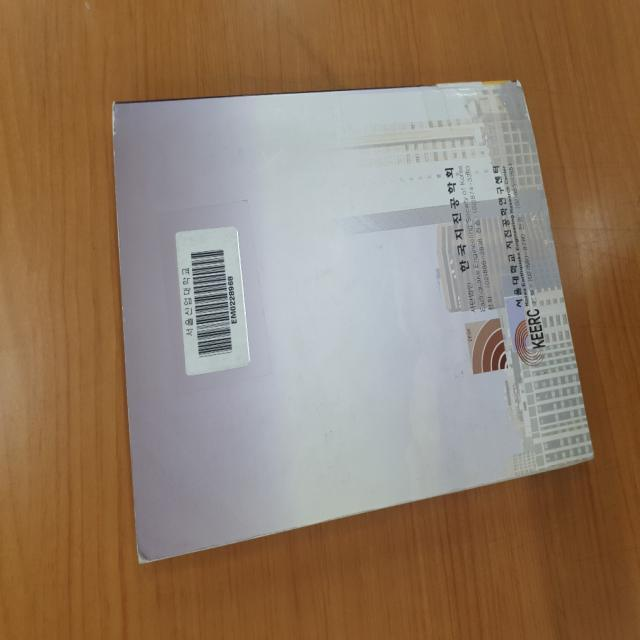Wornout: (135, 530, 225, 570), (114, 204, 136, 272), (509, 74, 534, 131), (110, 95, 128, 168)
